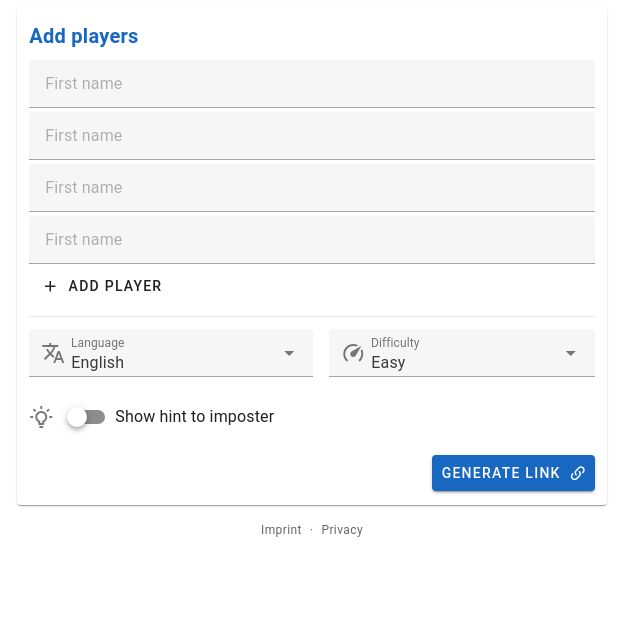
Test: HostSetup › clicking Generate with invalid form surfaces inline errors and does not navigate
Type "Anna" into the 1st field with placeholder "First name" at (312, 84), box [29,60,595,108]
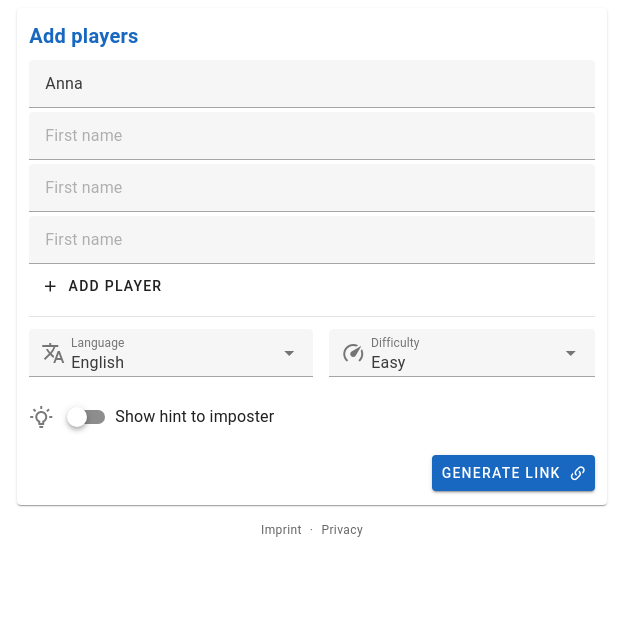
Type "anna" into the 1st field with placeholder "First name" at (312, 136), box [29,112,595,160]
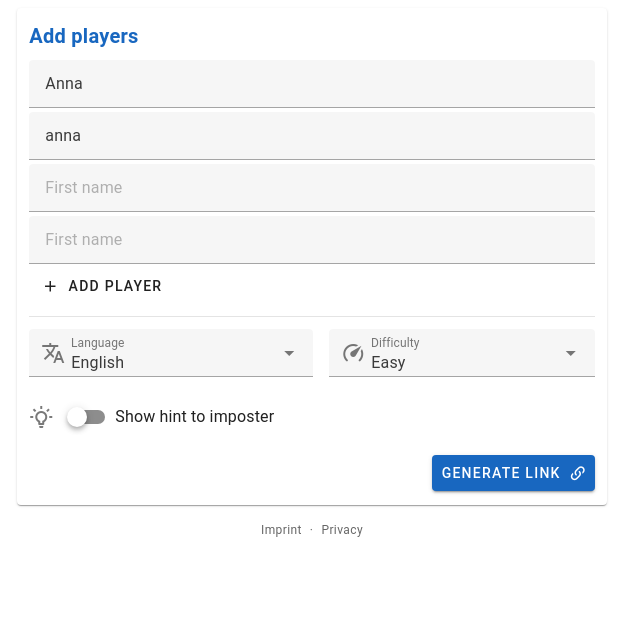
Type "Carl" into the 1st field with placeholder "First name" at (312, 188), box [29,164,595,212]
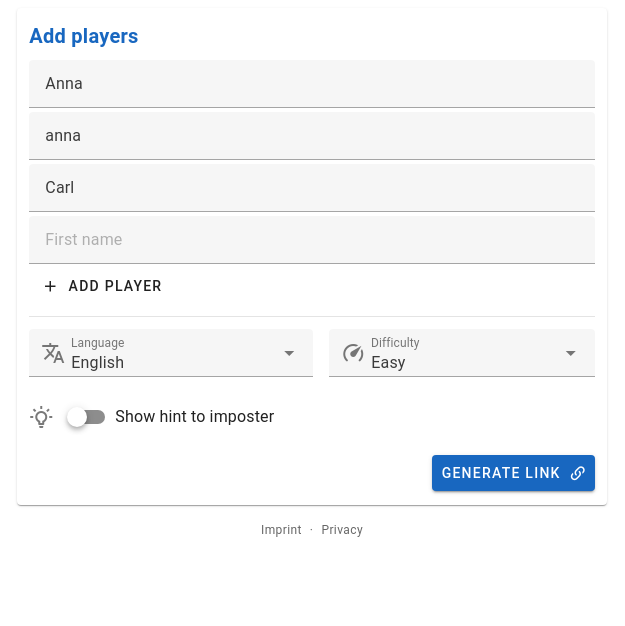
Type "Dora" into the field with placeholder "First name" at (312, 240), box [29,216,595,264]
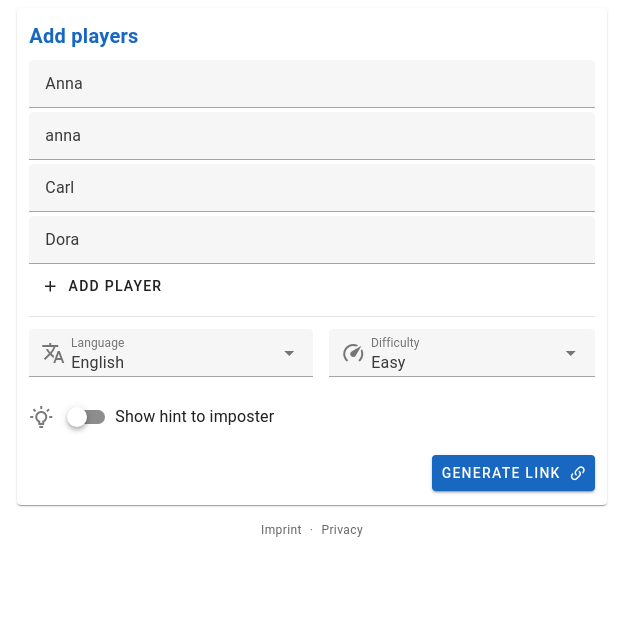
Expected: the text "Names must be unique" is not shown
Click the button with test id "generate" at (514, 473), box [432,455,595,491]
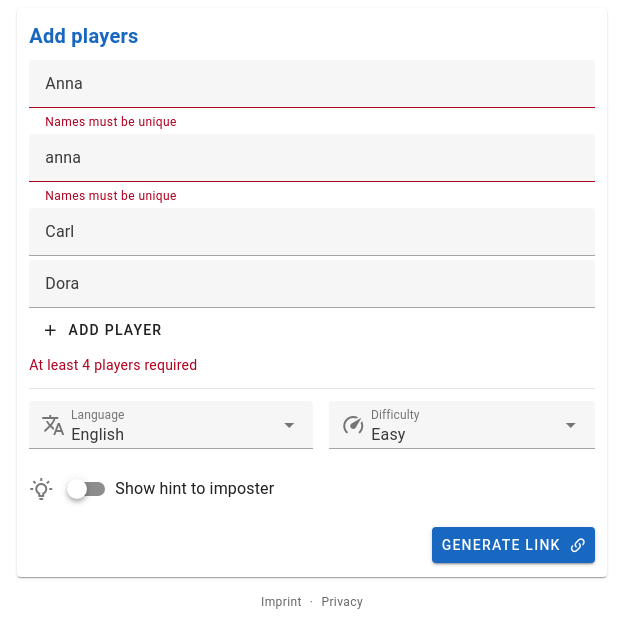
Expected: the text "Names must be unique" is shown, [45,115,177,129]
